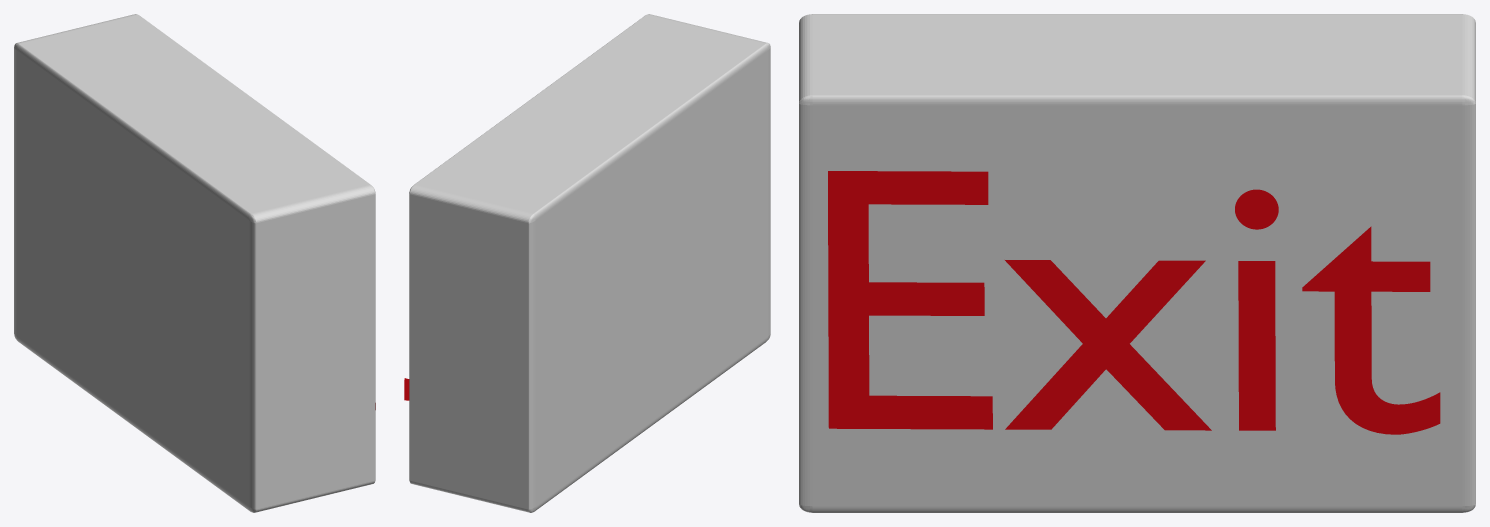
File: exit.glb
3 renders of one model, left to right at view 1: azimuth 30°, elevation 25°; view 2: azimuth 150°, elevation 25°; view 3: azimuth 270°, elevation 25°, orthographic. The views are drawn at different scales.
Parts seen in each view (by area): view 1: Cube; view 2: Cube; view 3: Cube, EXIT.
Part boxes in pixels (x1=…): Cube: x1=14, y1=14, x2=375, y2=512; Cube: x1=409, y1=14, x2=770, y2=512; Cube: x1=799, y1=14, x2=1475, y2=512; EXIT: x1=828, y1=171, x2=1440, y2=434.
Size of the model in its own units: 0.3415 by 0.6975 by 1.02.
